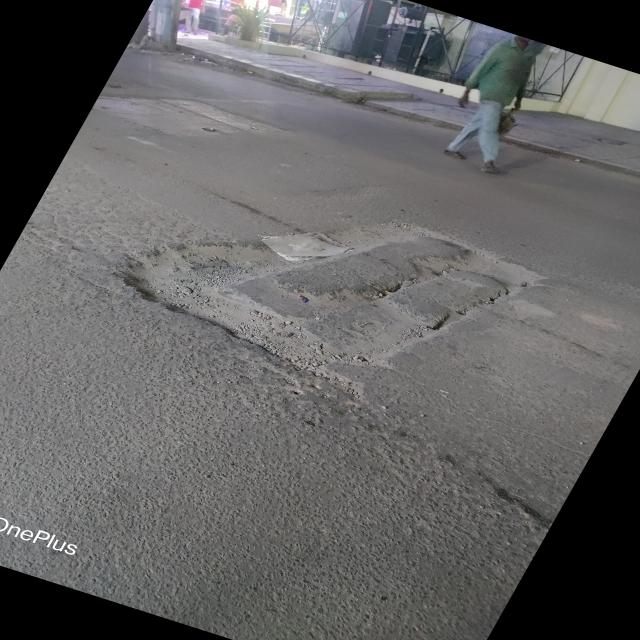manhole: (114, 188, 562, 400)
